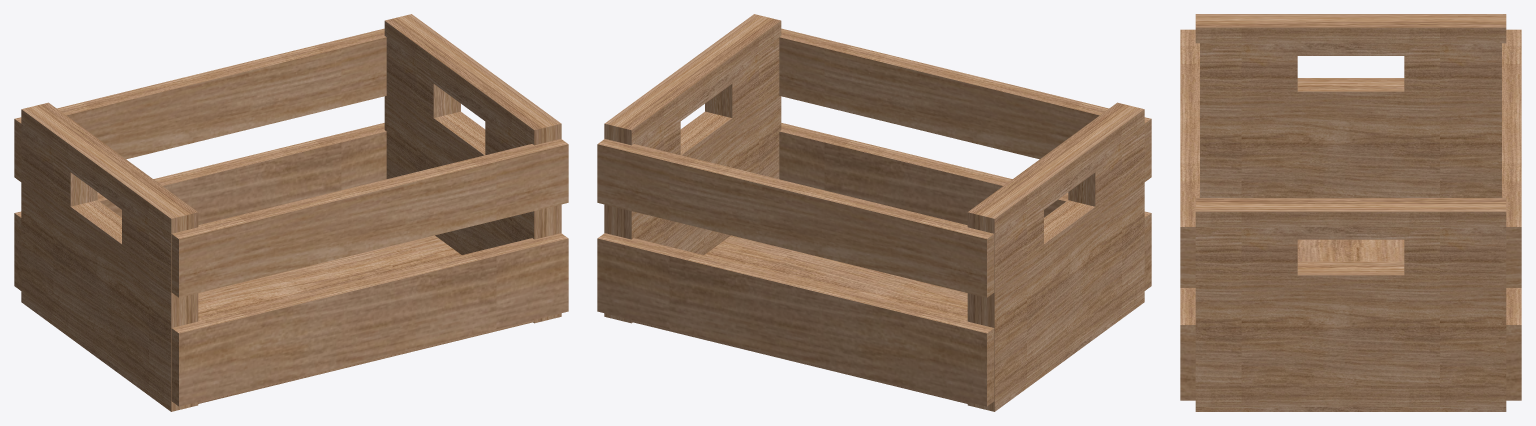
Rendered from fruit box.fbx.
The picture shows the model from 3 angles, left to right: view 1: azimuth 30°, elevation 25°; view 2: azimuth 150°, elevation 25°; view 3: azimuth 270°, elevation 25°; orthographic projection. The views are drawn at different scales.
Parts seen in each view (by area): view 1: Cube.062; view 2: Cube.062; view 3: Cube.062.
Part boxes in pixels (x1,y1,x2,y2): Cube.062: [14, 14, 568, 411]; Cube.062: [597, 14, 1151, 411]; Cube.062: [1180, 14, 1521, 411].
Bounding box in the file's own units: 25.5 × 12.06 × 18.62.
1 material, 1 textured.
